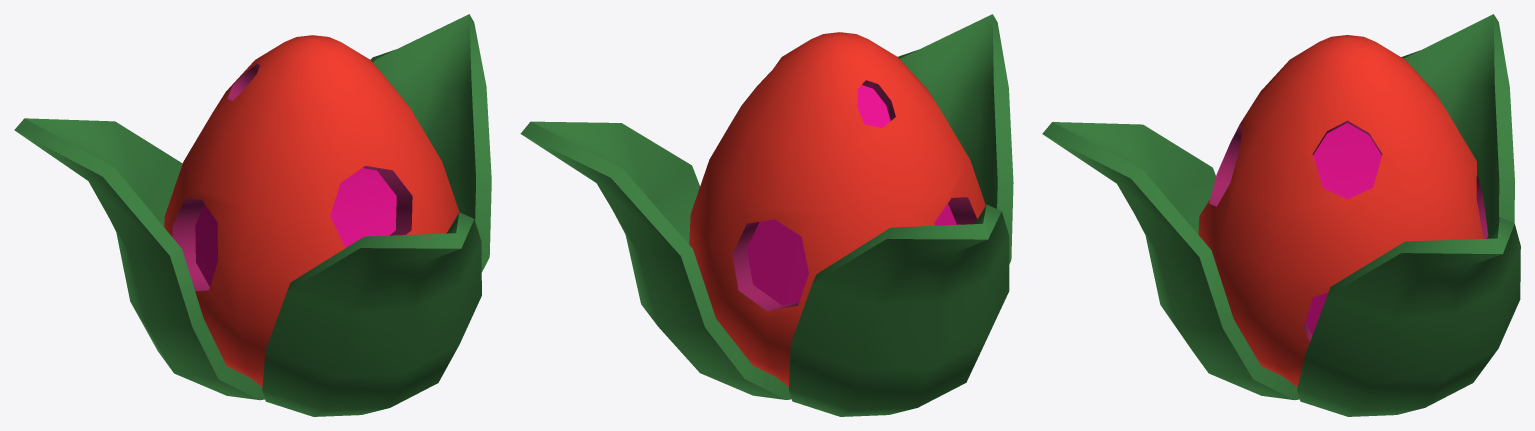
Rendered from Plant_4_red.fbx.
3 renders of one model, left to right at view 1: azimuth 30°, elevation 25°; view 2: azimuth 150°, elevation 25°; view 3: azimuth 270°, elevation 25°, orthographic.
Visible parts, largest first — view 1: Plant_4_red; view 2: Plant_4_red; view 3: Plant_4_red.
Part boxes in pixels (left/top/right/bottom): Plant_4_red: left=14, top=14, right=491, bottom=416; Plant_4_red: left=520, top=14, right=1013, bottom=416; Plant_4_red: left=1042, top=14, right=1520, bottom=416.
Bounding box in the file's own units: 1.34 × 0.9736 × 1.2.
